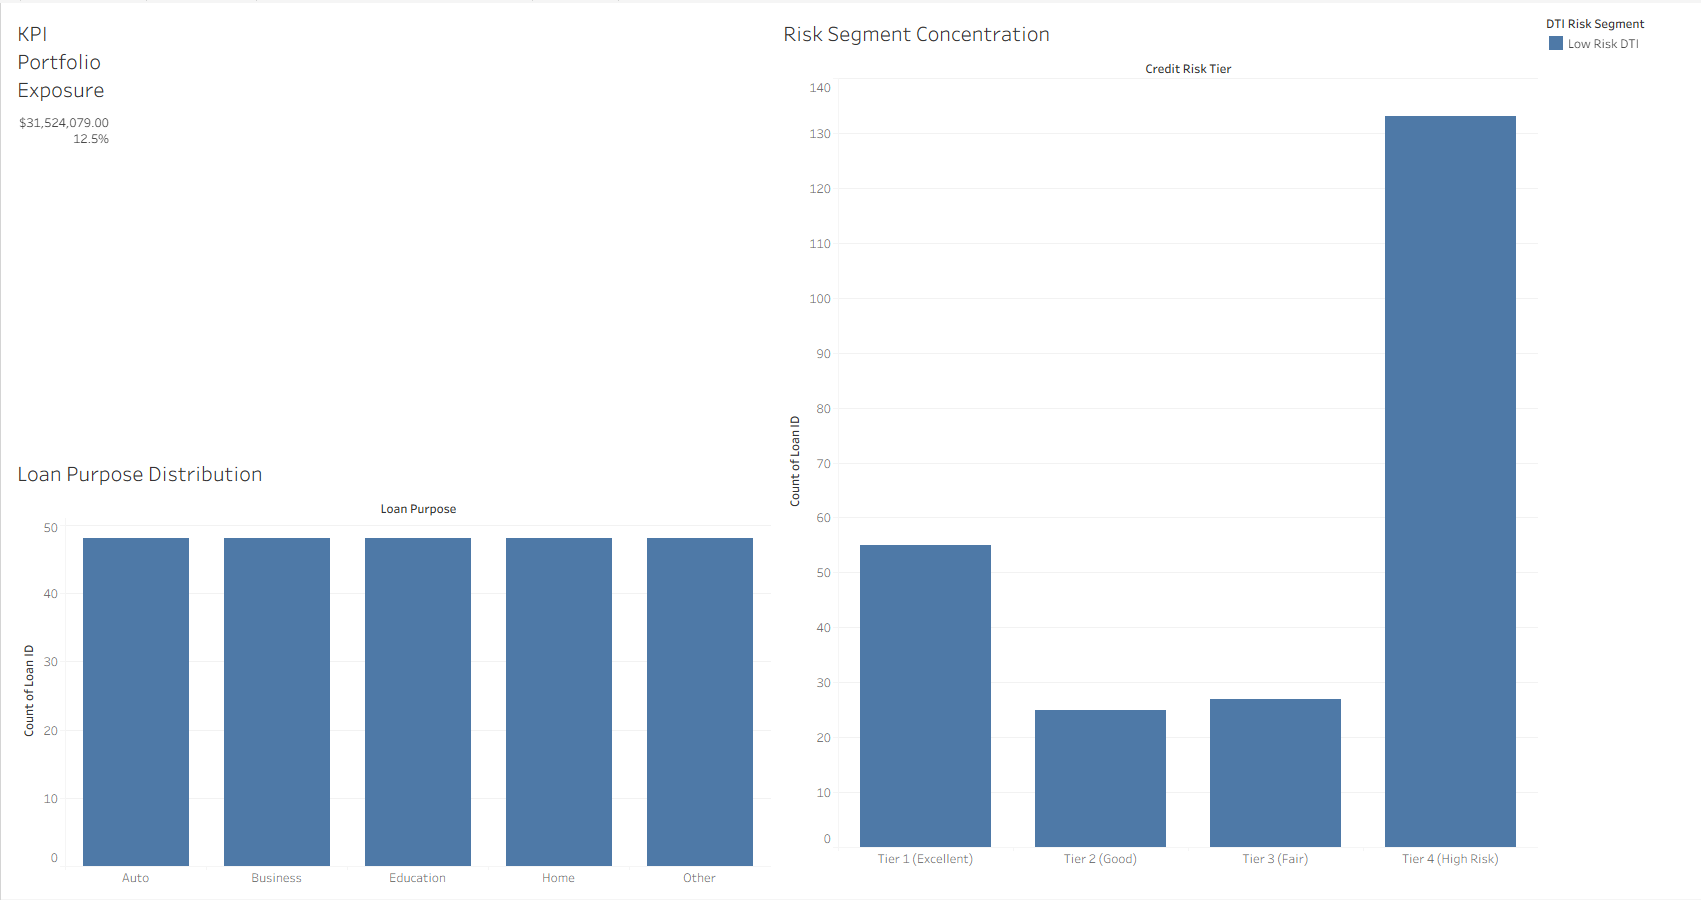

Layout of this report page (visuals, bound fields, positions):
{"tool":"tableau","page":{"name":"Dashboard 1","canvas":[1000,1000],"units":"permille","ordinal":0},"visuals":[{"type":"worksheet","title":"KPI Portfolio Exposure","mark":"Automatic","box":[4.7,8.9,448.5,491.1]},{"type":"worksheet","title":"Risk Segment Concentration","mark":"Automatic","rows":["LoanID"],"cols":["Credit_Risk_Tier"],"box":[453.2,8.9,448.5,982.1]},{"type":"legend","title":"Risk Segment Concentration","param":"[federated.0877onu1h9ylw21aftlzf0bp6ht8].[none:DTI_Risk_Segment:nk]","box":[901.7,8.9,93.6,51.3]},{"type":"worksheet","title":"Loan Purpose Distribution","mark":"Automatic","rows":["LoanID"],"cols":["LoanPurpose"],"box":[4.7,500,448.5,491.1]}]}

Visuals, with their boxes on the dashboard's canvas, which has no fixed pixel size, in thousandths of its width and height (x1, y1, x2, y2). These are canvas units, not pixel positions in the 1701x900 screenshot, which may show the page scaled, cropped or inside an application window:
"KPI Portfolio Exposure" worksheet: [x1=5, y1=9, x2=453, y2=500]
"Risk Segment Concentration" worksheet: [x1=453, y1=9, x2=902, y2=991]
"Risk Segment Concentration" legend: [x1=902, y1=9, x2=995, y2=60]
"Loan Purpose Distribution" worksheet: [x1=5, y1=500, x2=453, y2=991]
